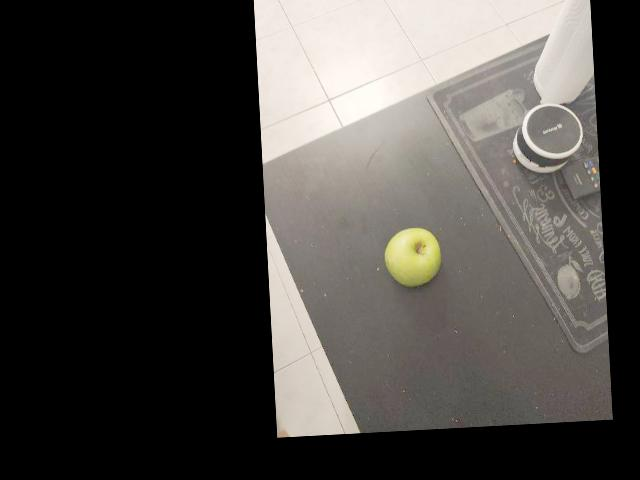apple: (265, 104, 359, 181)
